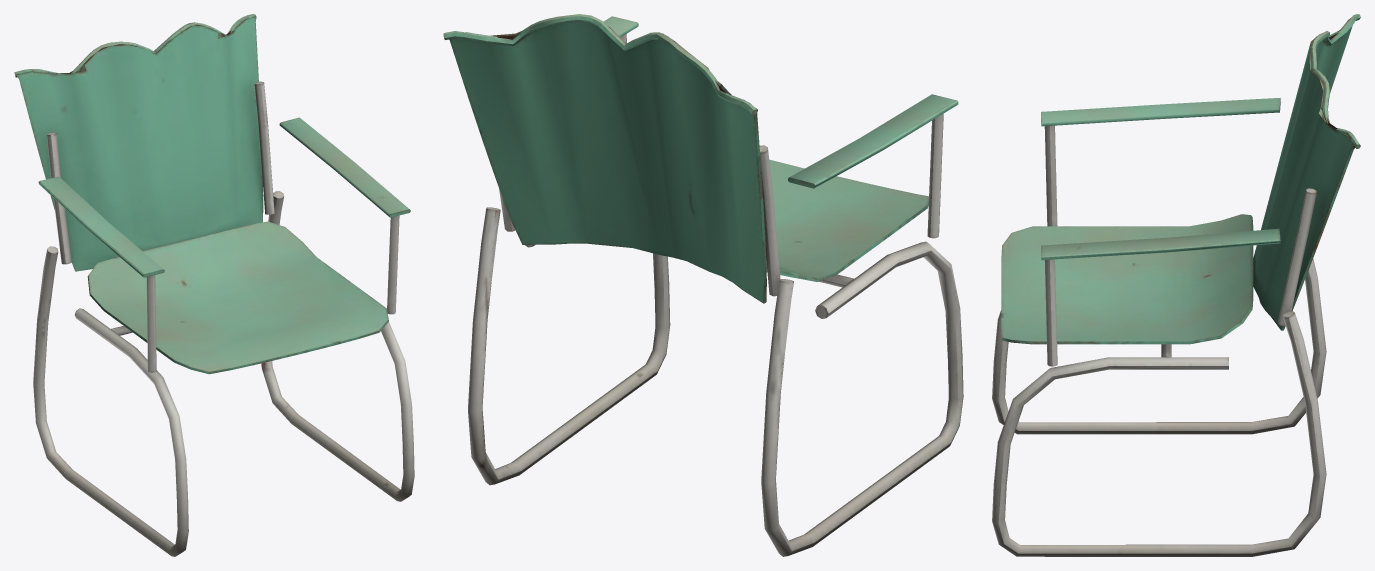
Rendered from patio_chair-low.glb.
3 views of the same model, side by side, from view 1: azimuth 30°, elevation 25°; view 2: azimuth 150°, elevation 25°; view 3: azimuth 270°, elevation 25° (orthographic). The views are drawn at different scales.
Visible parts, largest first — view 1: patio_chair; view 2: patio_chair; view 3: patio_chair.
Boxes of the visible parts, <box> form: patio_chair: <box>14,14,414,556</box>; patio_chair: <box>443,14,963,556</box>; patio_chair: <box>992,14,1360,556</box>.
Bounding box in the file's own units: 0.604 × 0.8566 × 0.6484.
2 materials, 2 textured.
